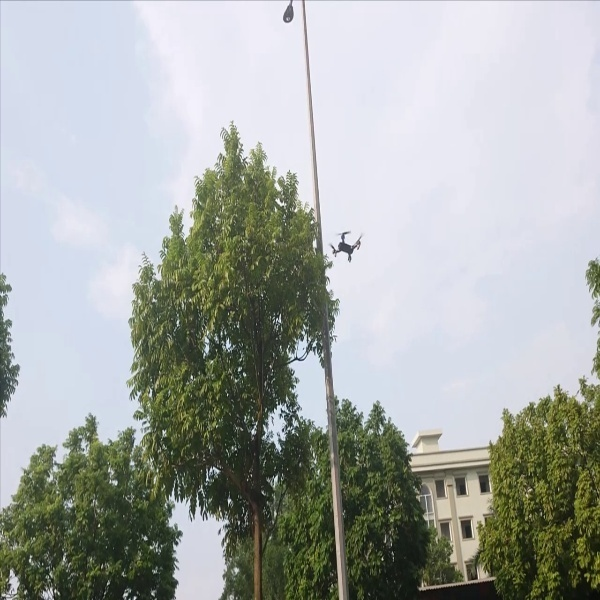drone: (328, 225, 366, 263)
